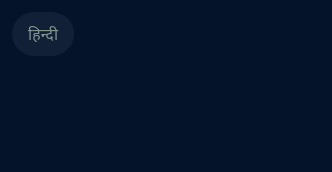
Scenario: LanguageToggle › keeps the accessibility and styling hooks: touch size, focus ring, extra classes, language of the label
This screenshot has width=332, height=172.
Click the button at (43, 34), box [12,12,74,56]
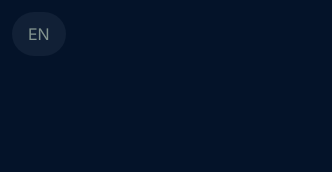
Now the text "EN" has attribute lang="en", box [28,22,50,46]
